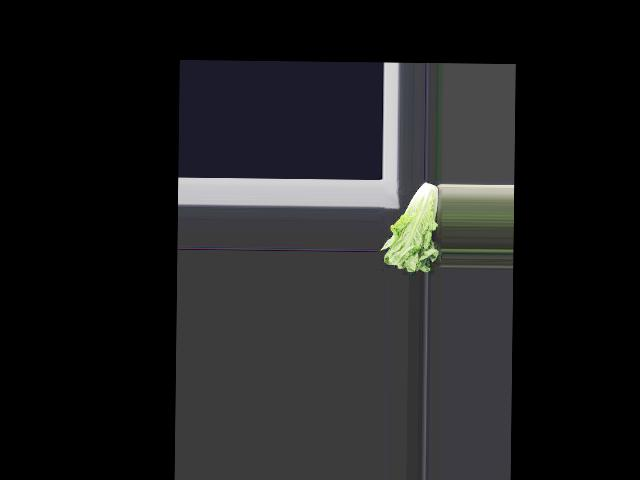lettuce: (381, 181, 439, 274)
